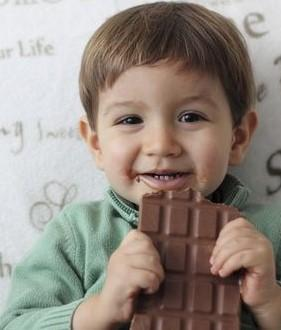Healthy: (69, 6, 270, 209)
